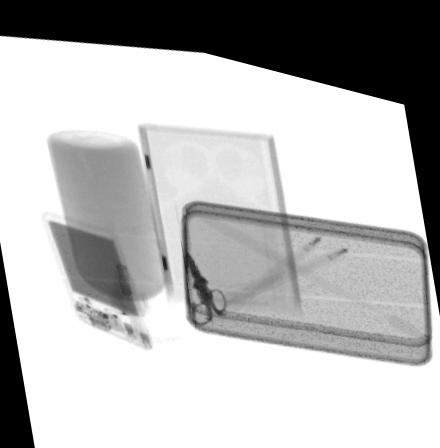Powerbank: (39, 207, 154, 343)
Scissors: (180, 237, 230, 317)
